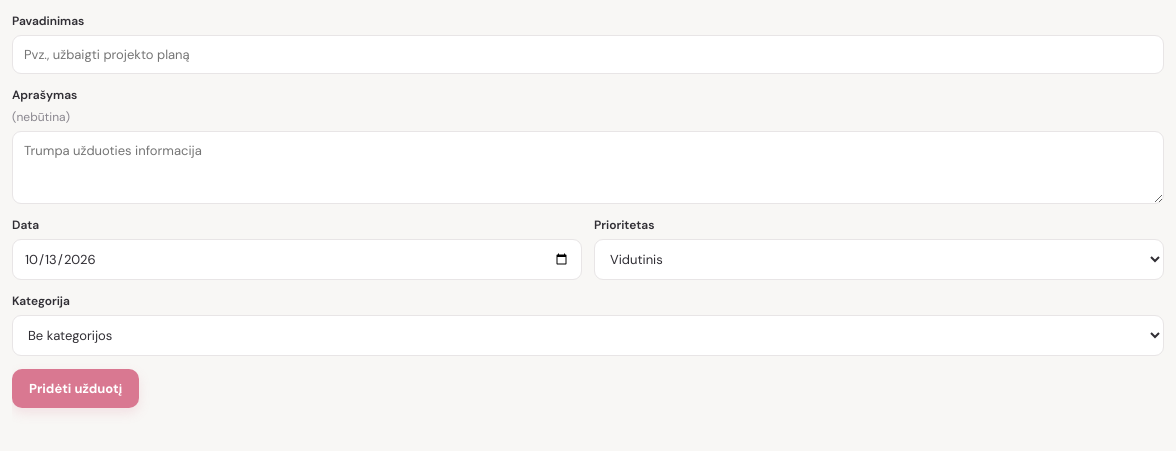
Scenario: rodo pavadinimo klaidą ir kategorijos pasirinkimą
This screenshot has width=1176, height=451.
Click the button "Pridėti užduotį". click: (76, 388)
box: [12,369,139,408]
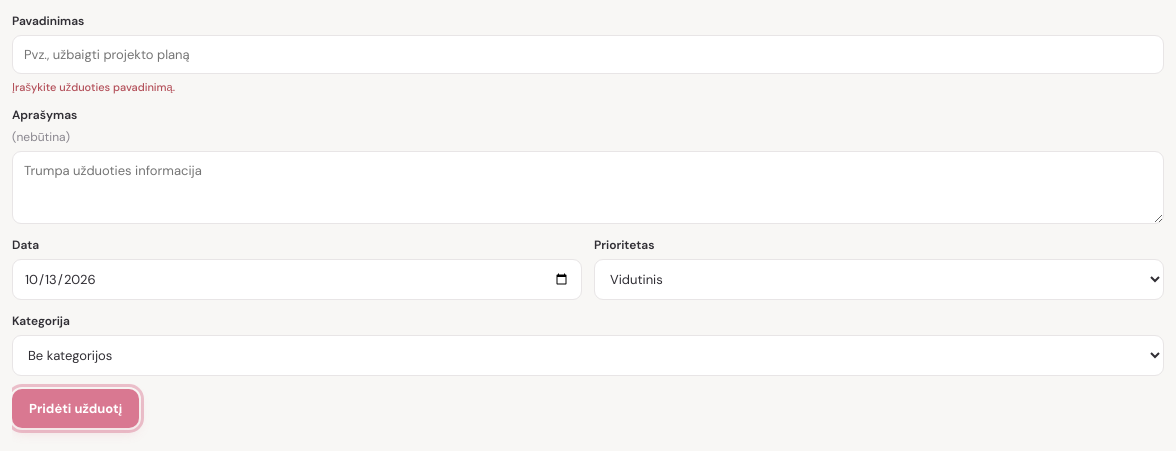
Expected: the text "Įrašykite užduoties pavadinimą." is shown, [12,80,175,94]
